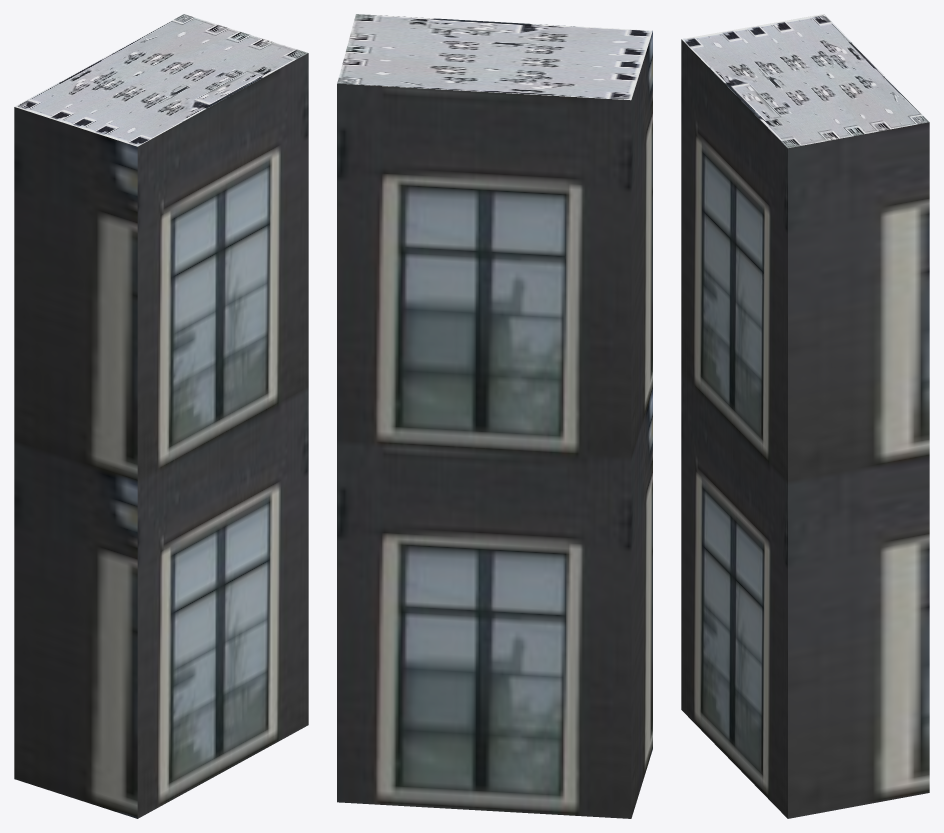
Rendered from ResTex__4763.fbx.
3 renders of one model, left to right at view 1: azimuth 30°, elevation 25°; view 2: azimuth 150°, elevation 25°; view 3: azimuth 270°, elevation 25°, orthographic. The views are drawn at different scales.
Visible parts, largest first — view 1: CityEngineMaterial_22_m, CityEngineMaterial_4_m; view 2: CityEngineMaterial_22_m, CityEngineMaterial_4_m; view 3: CityEngineMaterial_22_m, CityEngineMaterial_4_m.
Part boxes in pixels (x1,y1,x2,y2): CityEngineMaterial_22_m: [14, 53, 308, 818]; CityEngineMaterial_4_m: [15, 14, 307, 146]; CityEngineMaterial_22_m: [337, 31, 652, 818]; CityEngineMaterial_4_m: [337, 14, 652, 100]; CityEngineMaterial_22_m: [681, 39, 929, 818]; CityEngineMaterial_4_m: [681, 14, 929, 148].
Bounding box in the file's own units: 2.58 × 6 × 2.01.
2 materials, 2 textured.
